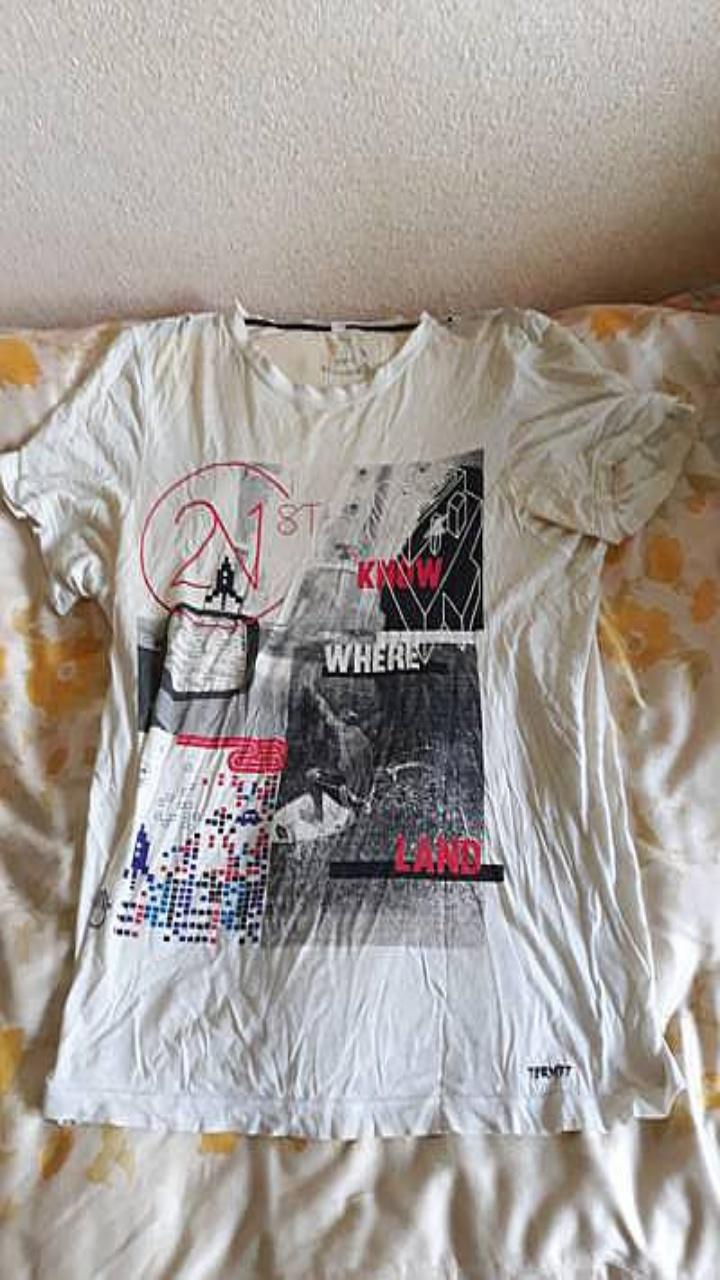T-Shirt: (0, 309, 693, 1137)
